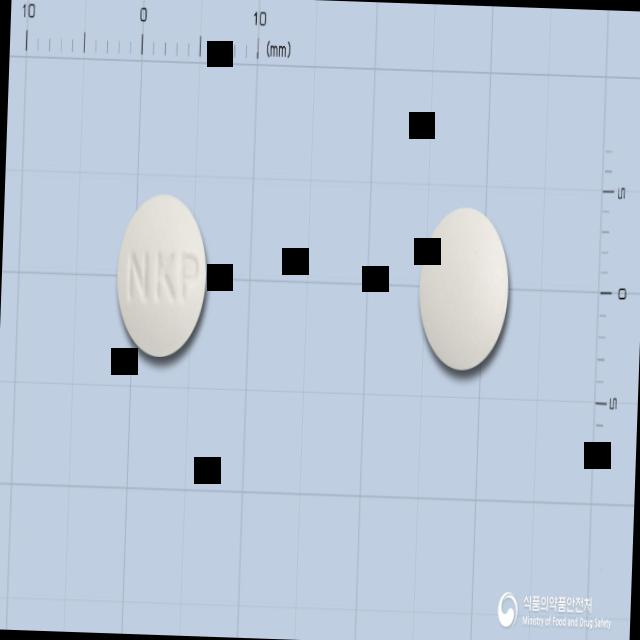Cirok -500mg: (112, 189, 212, 359), (416, 205, 512, 372)
